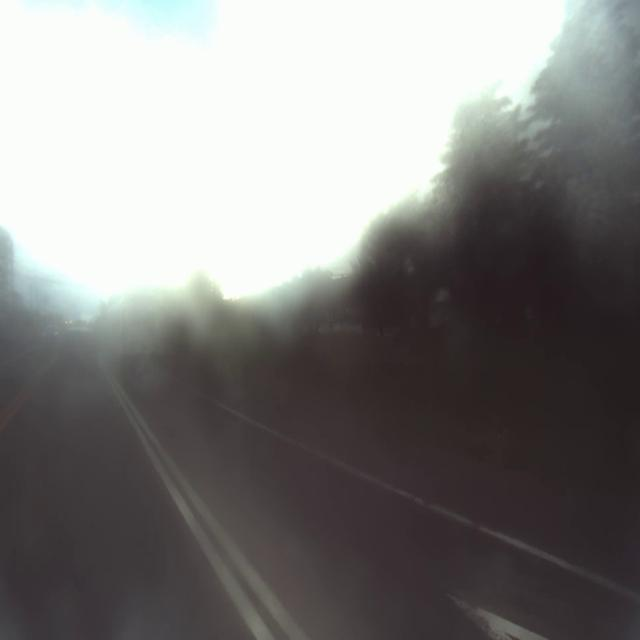car: (55, 317, 105, 393)
